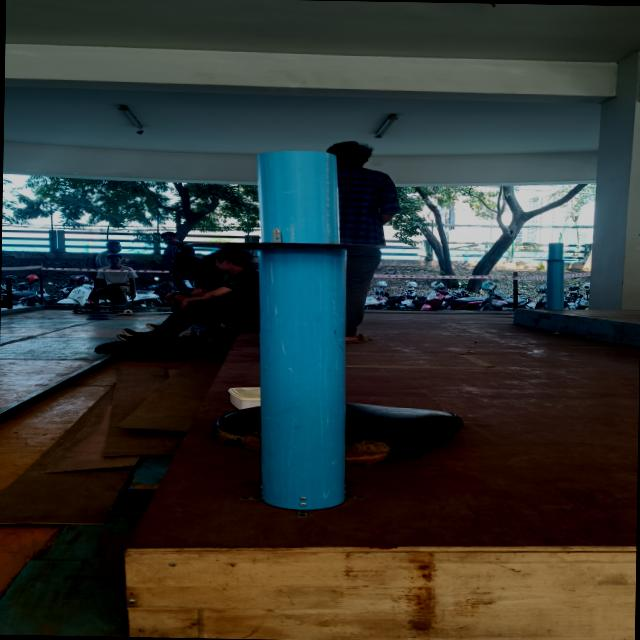pole: (132, 188, 474, 300)
